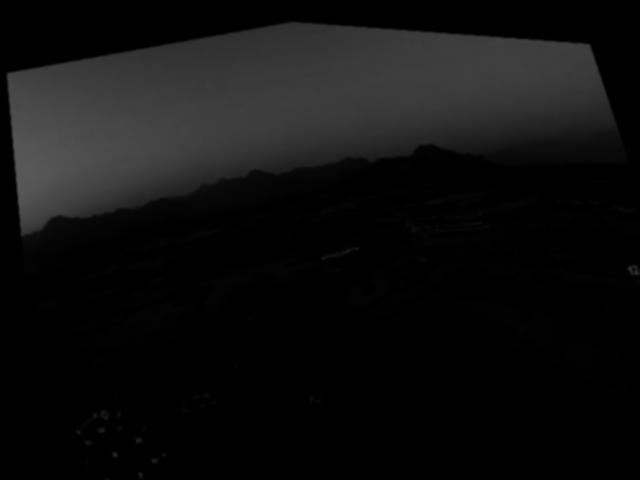hedef: (308, 232, 363, 264)
